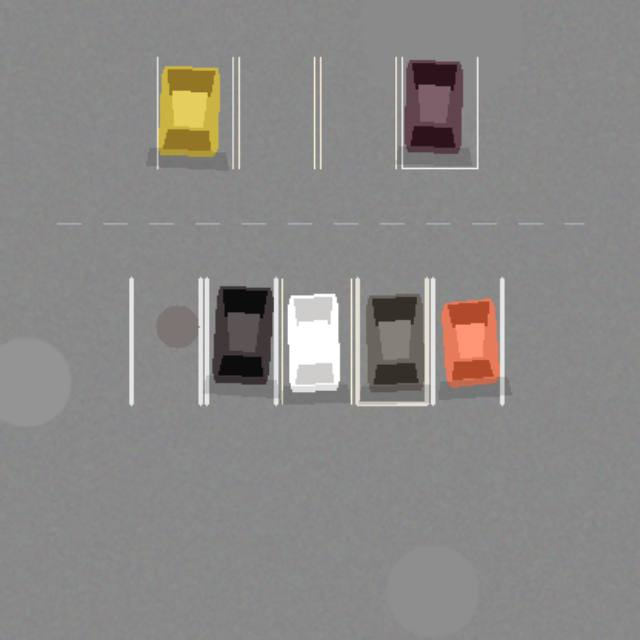space-empty: (131, 278, 200, 403), (238, 57, 314, 168), (320, 57, 395, 168)
space-occupied: (432, 278, 502, 403), (206, 278, 275, 403), (282, 278, 351, 403), (357, 278, 426, 403), (157, 57, 232, 168), (402, 57, 477, 168)
